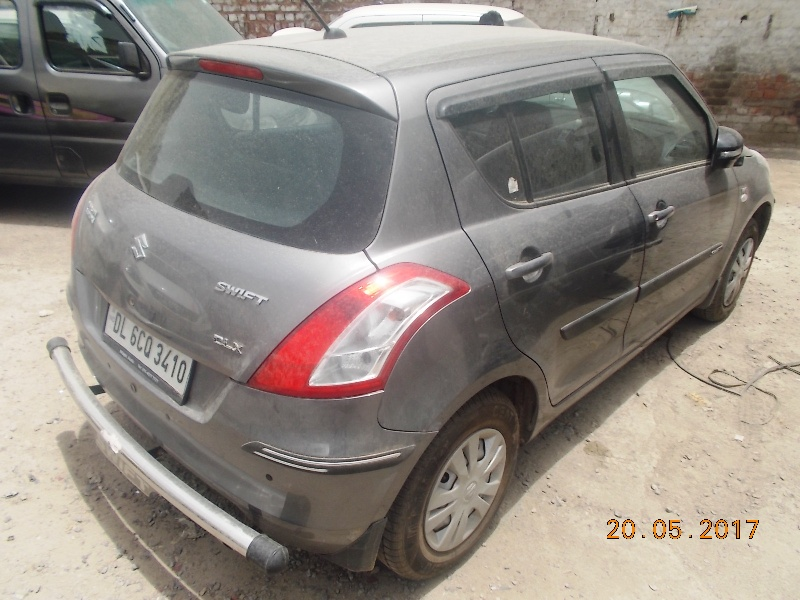Large_dent: (509, 208, 743, 318)
